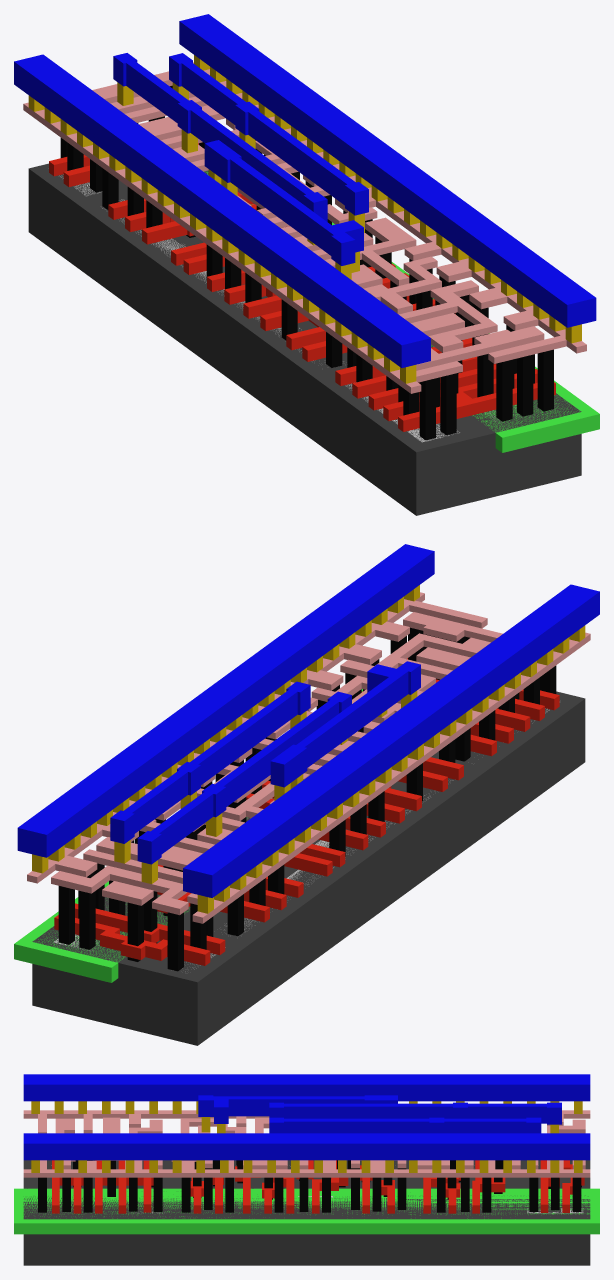
File: sky130_fd_sc_hd__dfrbp_2.obj
The picture shows the model from 3 angles, top to bottom: view 1: azimuth 30°, elevation 25°; view 2: azimuth 150°, elevation 25°; view 3: azimuth 270°, elevation 25°; orthographic projection. The views are drawn at different scales.
Visible parts, largest first — view 1: metal1, subs, li, licon, poly, mcon, nwell, diff; view 2: metal1, subs, li, licon, poly, mcon, nwell; view 3: metal1, subs, nwell, li, licon, poly, mcon.
Boxes of the visible parts, x1,y1,x2,y2 form: metal1: (14,14,596,367); subs: (28,163,581,515); li: (23,62,586,393); licon: (60,85,553,440); poly: (49,143,555,431); mcon: (28,55,581,383); nwell: (204,171,599,452); diff: (59,174,459,442); metal1: (17,544,599,897); subs: (32,691,585,1045); li: (27,592,590,923); licon: (58,627,556,971); poly: (54,658,559,965); mcon: (32,585,585,913); nwell: (14,689,362,982); metal1: (23,1074,590,1160); subs: (23,1160,590,1265); nwell: (14,1188,599,1234); li: (23,1110,590,1177); licon: (38,1160,581,1212); poly: (52,1160,584,1213); mcon: (31,1101,582,1172).
Bounding box in the file's own units: 3.2 × 2.74 × 11.42.
